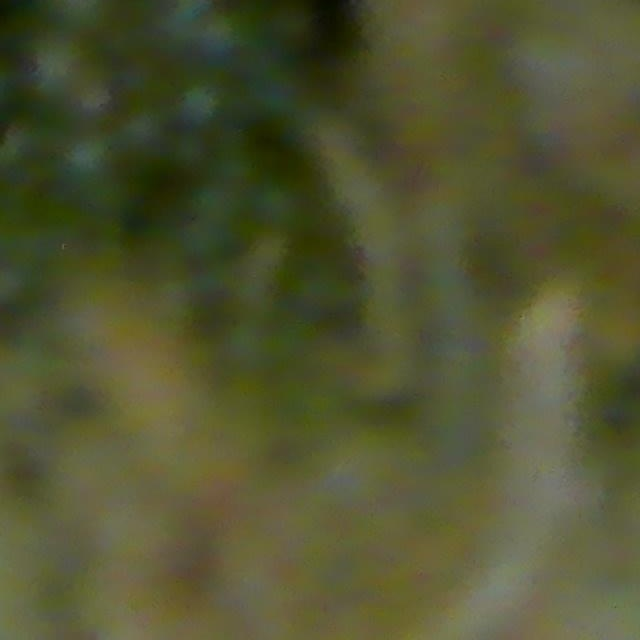SeaGrape: (28, 32, 90, 102), (58, 128, 119, 190), (112, 101, 172, 163), (174, 79, 224, 129)
